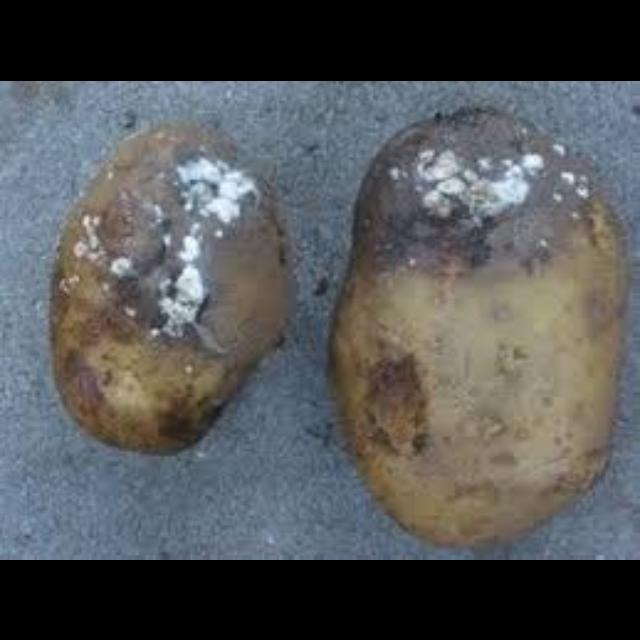Damaged potato: (334, 112, 628, 548), (69, 118, 297, 456)
